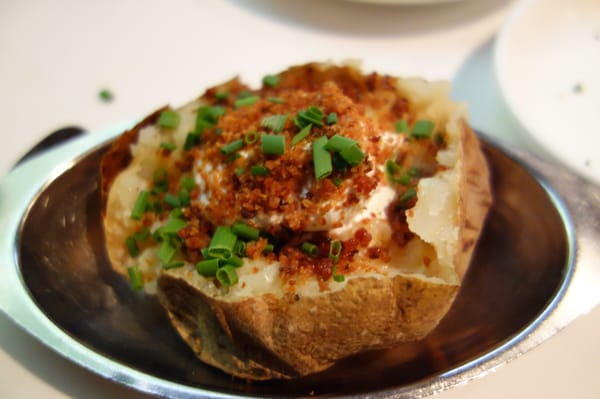soup: (86, 60, 501, 380)
